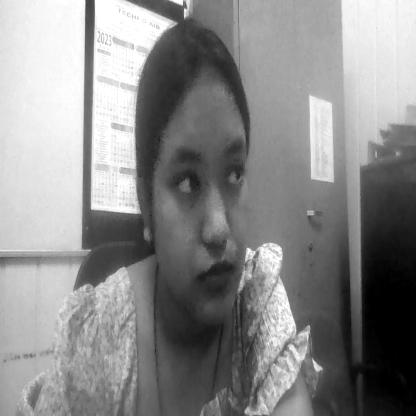Distracted: (160, 99, 255, 333)
